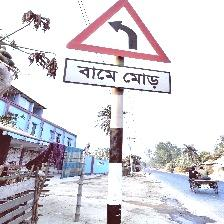Left-Turn: (65, 0, 173, 95)
